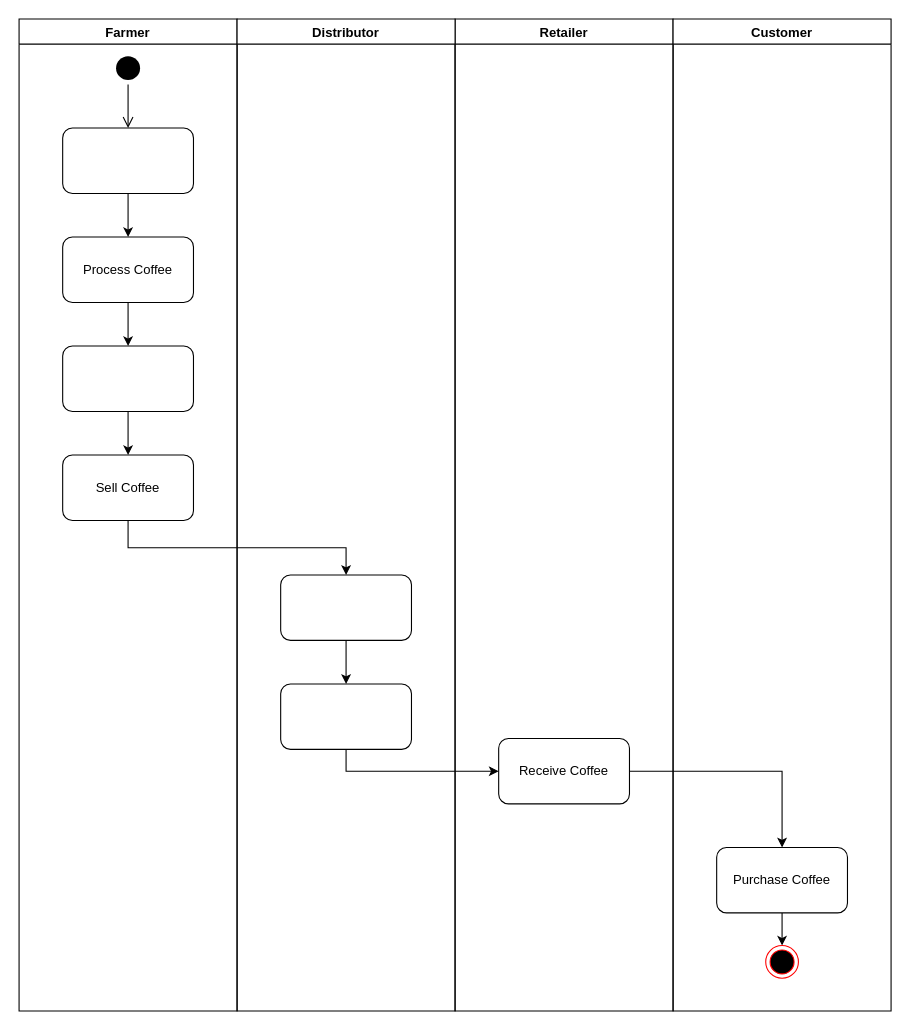
Some shapes in this 910 by 1030 pixel diagram are drawn without their labels. The shapes that lost their labels are listed below. From the top down, each one's centre as x and y in pixels, then its label:
At (x=127, y=160): "Havest Coffee".
At (x=127, y=378): "Pack Coffee".
At (x=345, y=607): "Buy Packed Coffee".
At (x=345, y=716): "Ship Coffee".
